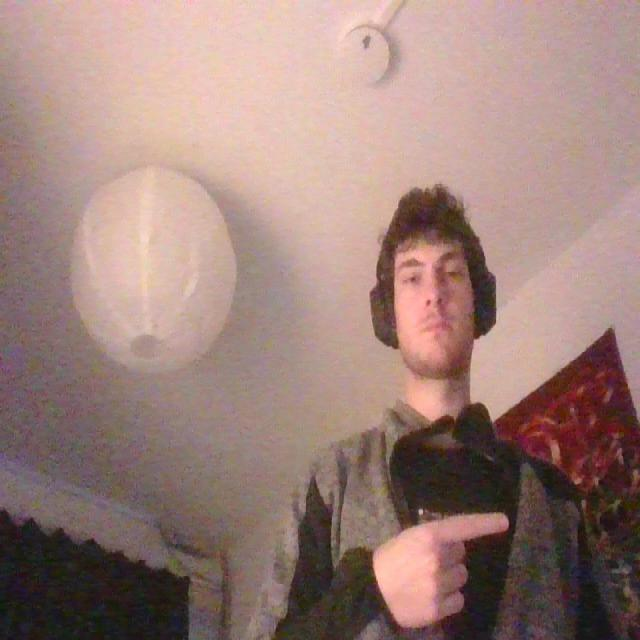right: (371, 510, 509, 636)
